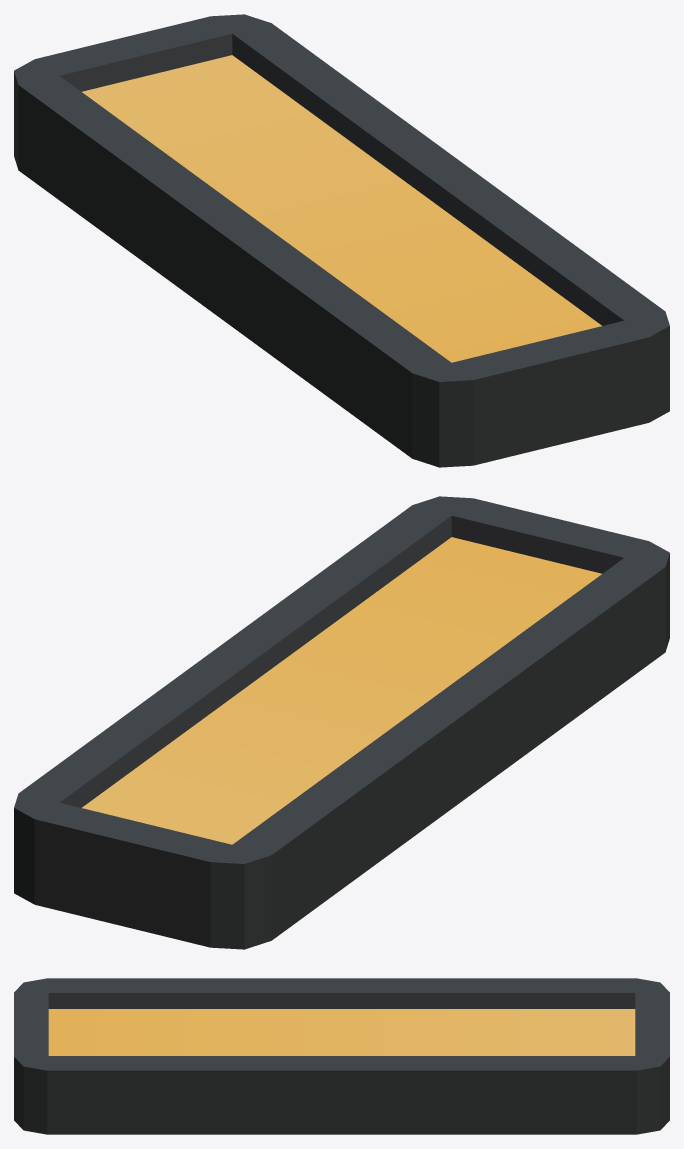
File: LightBlock_01.glb
3 views of the same model, one above another, from view 1: azimuth 30°, elevation 25°; view 2: azimuth 150°, elevation 25°; view 3: azimuth 270°, elevation 25° (orthographic). The views are drawn at different scales.
Visible parts, largest first — view 1: LightBlock_01; view 2: LightBlock_01; view 3: LightBlock_01.
Part boxes in pixels (x1,y1,x2,y2): LightBlock_01: (14, 14, 669, 467); LightBlock_01: (14, 496, 669, 949); LightBlock_01: (14, 978, 669, 1134).
Size of what is drawn, in the model's own units: 0.6667 by 0.2152 by 2.
Materials: 1 (1 with a texture image).
